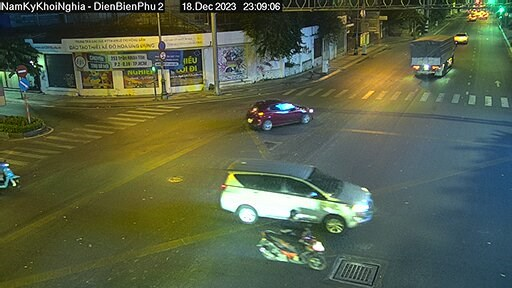car: (211, 147, 386, 231), (241, 92, 318, 132), (456, 28, 473, 44)
motorbike: (254, 219, 335, 273)
truck: (407, 32, 459, 83)
